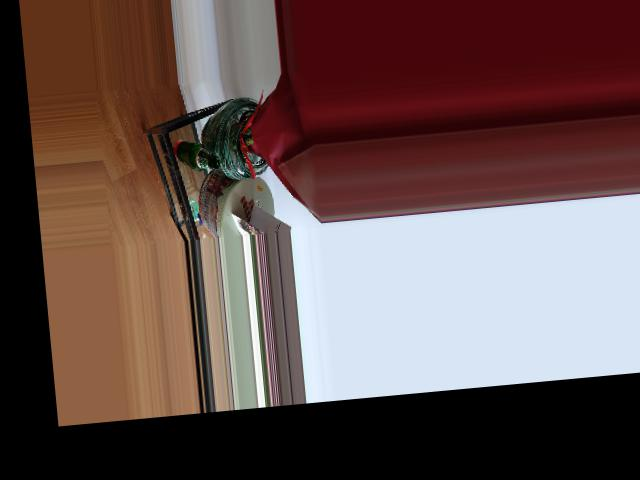beer: (175, 137, 220, 172)
